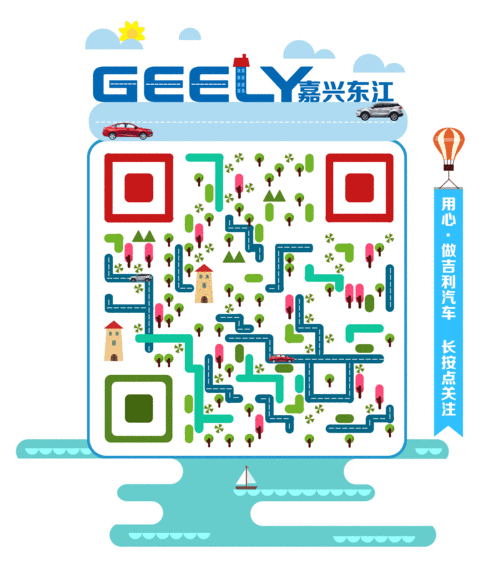QRCode: (89, 145, 400, 448)
